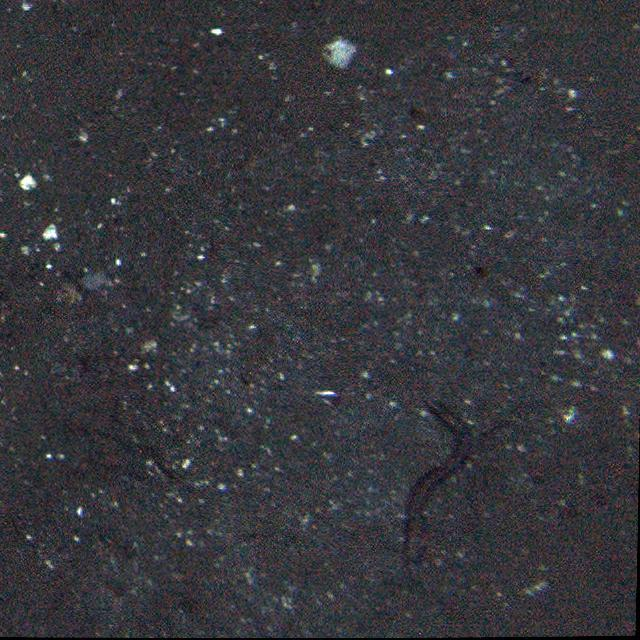eel: (407, 396, 472, 560)
